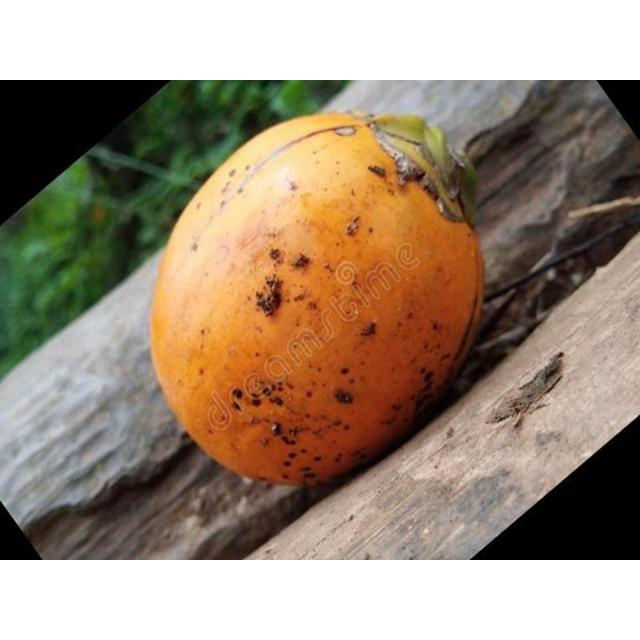good: (147, 111, 485, 490)
